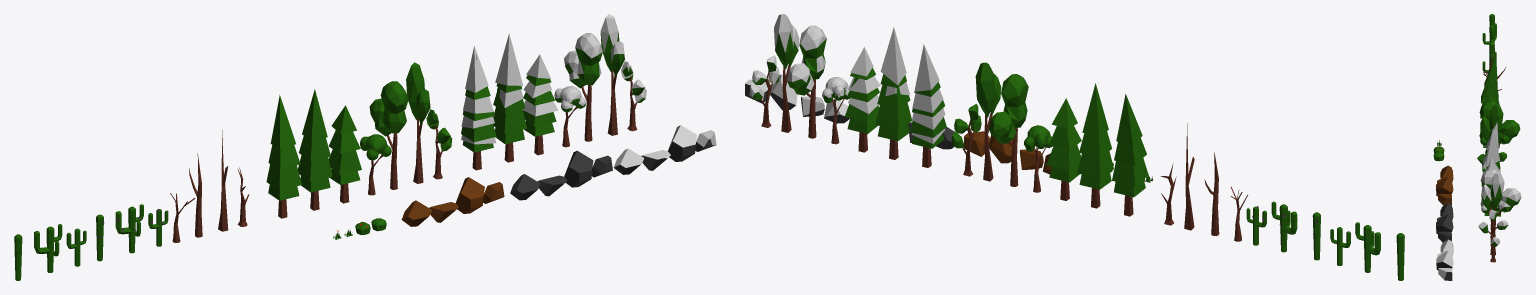
File: models.obj
3 renders of one model, left to right at view 1: azimuth 30°, elevation 25°; view 2: azimuth 150°, elevation 25°; view 3: azimuth 270°, elevation 25°, orthographic. The views are drawn at different scales.
Parts seen in each view (by area): view 1: Plane.009, Plane.008, Plane.003, Plane.004, Plane.007, Plane.002, Plane.005, Plane, Cube.007, Cube.001, Plane.001, Plane.006 (+12 smaller); view 2: Plane.009, Plane.008, Plane.004, Plane.003, Plane.007, Plane.002, Plane.005, Plane, Cube.001, Cube.007, Cube.006, Cube (+11 smaller); view 3: Plane.005, Cube.007, Plane, Cube.001, Cube.006, Plane.009, Plane.004, Cube.015, Cube.011, Cube.019, Plane.003, Plane.008 (+13 smaller).
Part boxes in pixels (x1,y1,x2,y2): Plane.009: (493,33,527,162); Plane.008: (461,46,496,170); Plane.003: (266,95,301,218); Plane.004: (298,89,332,210); Plane.007: (522,54,558,155); Plane.002: (328,105,361,203); Plane.005: (564,33,602,141); Plane: (369,81,408,189); Cube.007: (600,14,624,135); Cube.001: (406,62,430,183); Plane.001: (360,134,391,195); Plane.006: (554,86,586,147); Plane.009: (875,27,911,159); Plane.008: (910,44,946,167); Plane.004: (1077,83,1113,208); Plane.003: (1112,94,1148,216); Plane.007: (844,47,880,152); Plane.002: (1046,98,1081,200); Plane.005: (787,25,826,138); Plane: (989,74,1028,186); Cube.001: (975,62,1001,181); Cube.007: (774,14,799,132); Cube.006: (749,55,779,127); Cube: (951,104,981,176); Plane.005: (1480,169,1521,245); Cube.007: (1481,170,1504,255); Plane: (1479,101,1520,145); Cube.001: (1480,102,1503,142); Cube.006: (1478,209,1508,262); Plane.009: (1485,128,1500,171); Plane.004: (1485,65,1499,103); Cube.015: (1436,250,1453,270); Cube.011: (1436,214,1453,234); Cube.019: (1436,176,1453,196); Plane.003: (1480,54,1497,118); Plane.008: (1481,122,1498,189).
Bounding box in the file's own units: 270 × 53.85 × 43.15.
